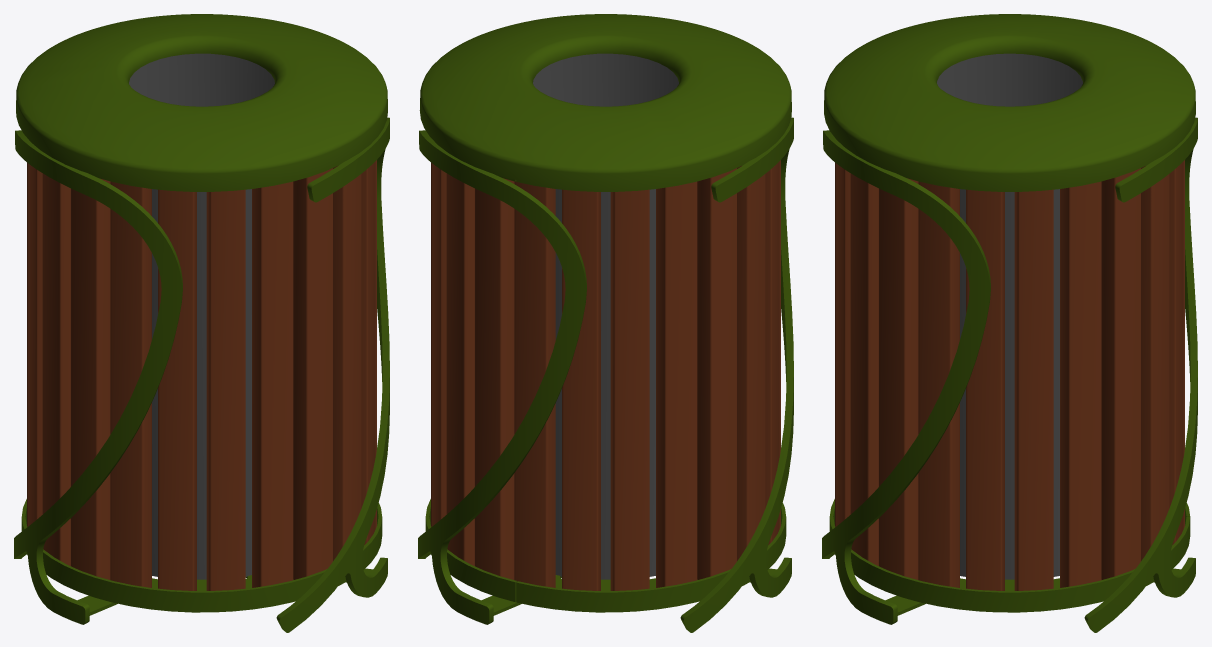
The picture shows the model from 3 angles, left to right: view 1: azimuth 30°, elevation 25°; view 2: azimuth 150°, elevation 25°; view 3: azimuth 270°, elevation 25°; orthographic projection.
Visible parts, largest first — view 1: mesh1_mesh1-geometry, mesh4_mesh4-geometry, mesh82_mesh82-geometry, mesh99_mesh99-geometry, mesh80_mesh80-geometry; view 2: mesh1_mesh1-geometry, mesh4_mesh4-geometry, mesh82_mesh82-geometry, mesh99_mesh99-geometry, mesh80_mesh80-geometry; view 3: mesh1_mesh1-geometry, mesh4_mesh4-geometry, mesh82_mesh82-geometry, mesh99_mesh99-geometry, mesh80_mesh80-geometry.
Boxes of the visible parts, left/top/right/bottom form: mesh1_mesh1-geometry: left=27, top=160, right=376, bottom=590; mesh4_mesh4-geometry: left=16, top=14, right=387, bottom=189; mesh82_mesh82-geometry: left=14, top=117, right=389, bottom=632; mesh99_mesh99-geometry: left=129, top=53, right=274, bottom=579; mesh80_mesh80-geometry: left=21, top=162, right=382, bottom=612; mesh1_mesh1-geometry: left=431, top=160, right=780, bottom=590; mesh4_mesh4-geometry: left=419, top=14, right=791, bottom=189; mesh82_mesh82-geometry: left=418, top=117, right=793, bottom=632; mesh99_mesh99-geometry: left=533, top=53, right=678, bottom=579; mesh80_mesh80-geometry: left=425, top=162, right=786, bottom=612; mesh1_mesh1-geometry: left=835, top=160, right=1184, bottom=590; mesh4_mesh4-geometry: left=824, top=14, right=1195, bottom=189; mesh82_mesh82-geometry: left=822, top=117, right=1197, bottom=632; mesh99_mesh99-geometry: left=937, top=53, right=1082, bottom=579; mesh80_mesh80-geometry: left=829, top=163, right=1190, bottom=612.
Size of the model in its own units: 0.4937 by 0.7149 by 0.4951.
